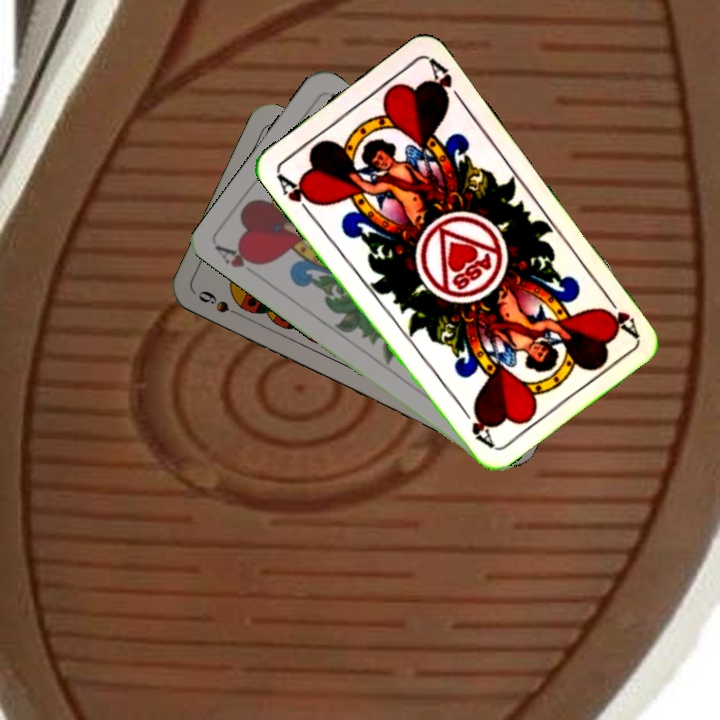HA: (272, 169, 321, 219), (597, 288, 641, 340), (212, 241, 266, 282)
S9: (193, 286, 249, 321)
